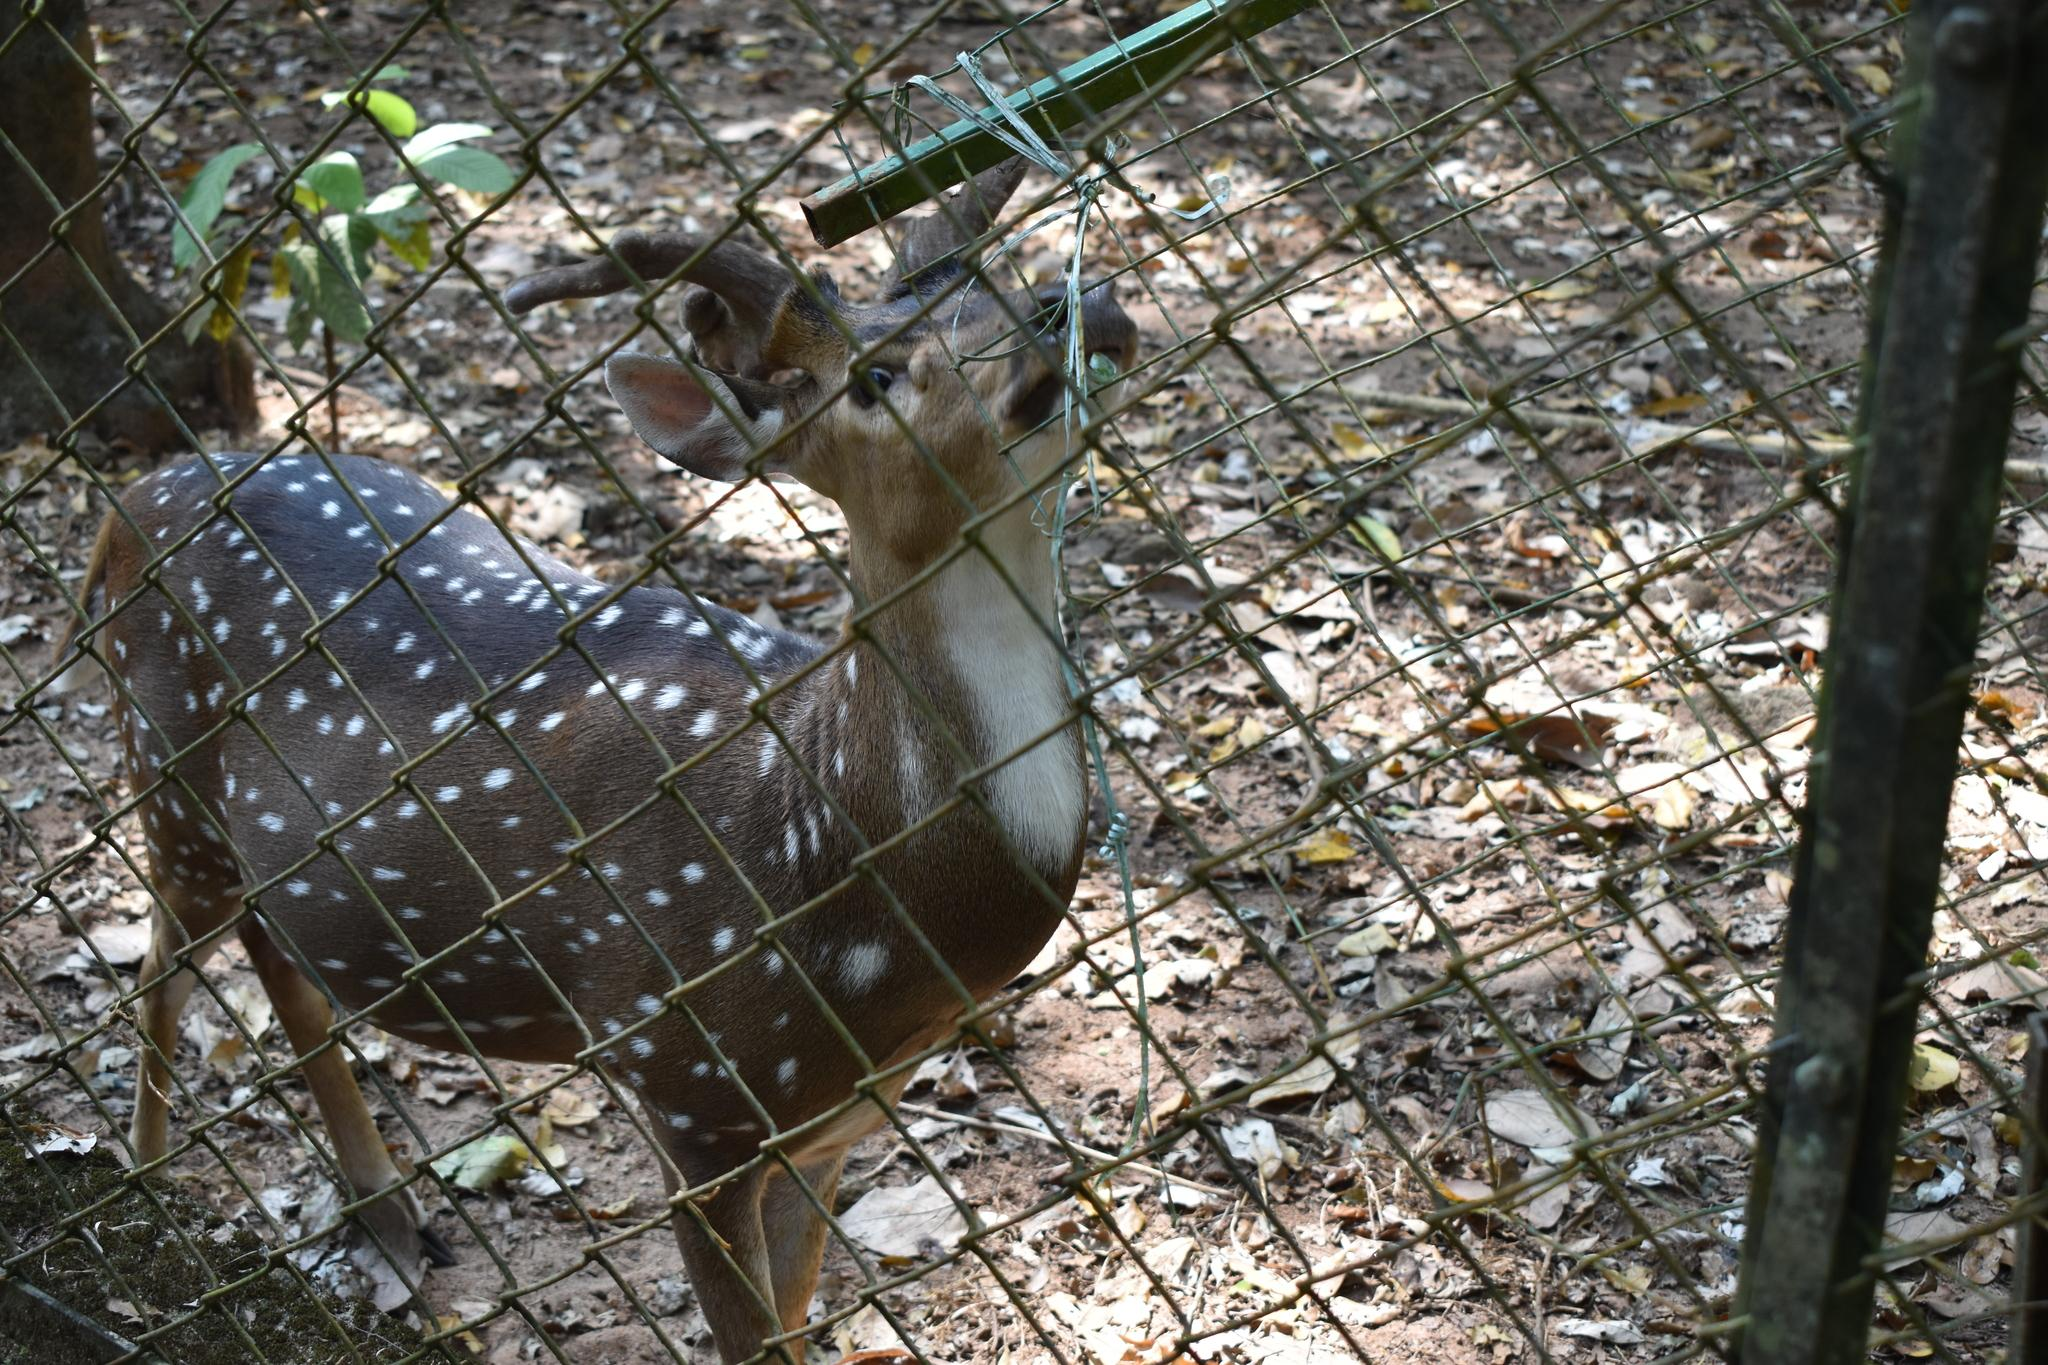Deer: (84, 155, 1137, 1363)
